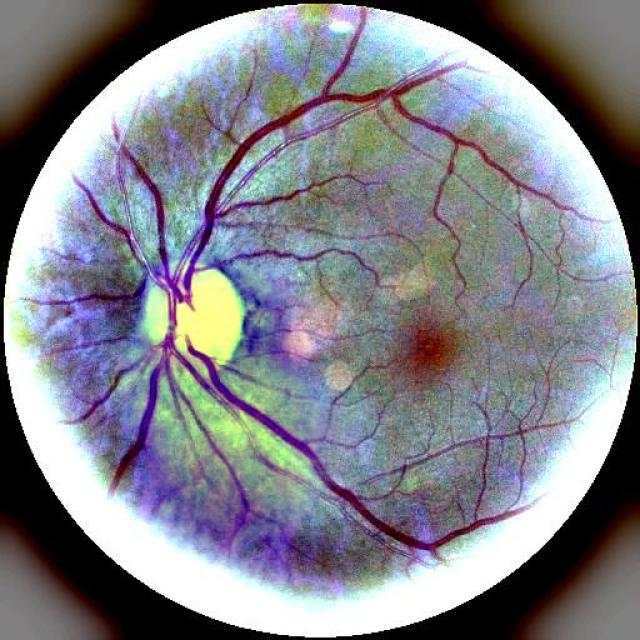Macula: (404, 328, 458, 378)
Nerves: (102, 75, 506, 551)
Optic Disk: (175, 269, 245, 365), (142, 285, 168, 342)
